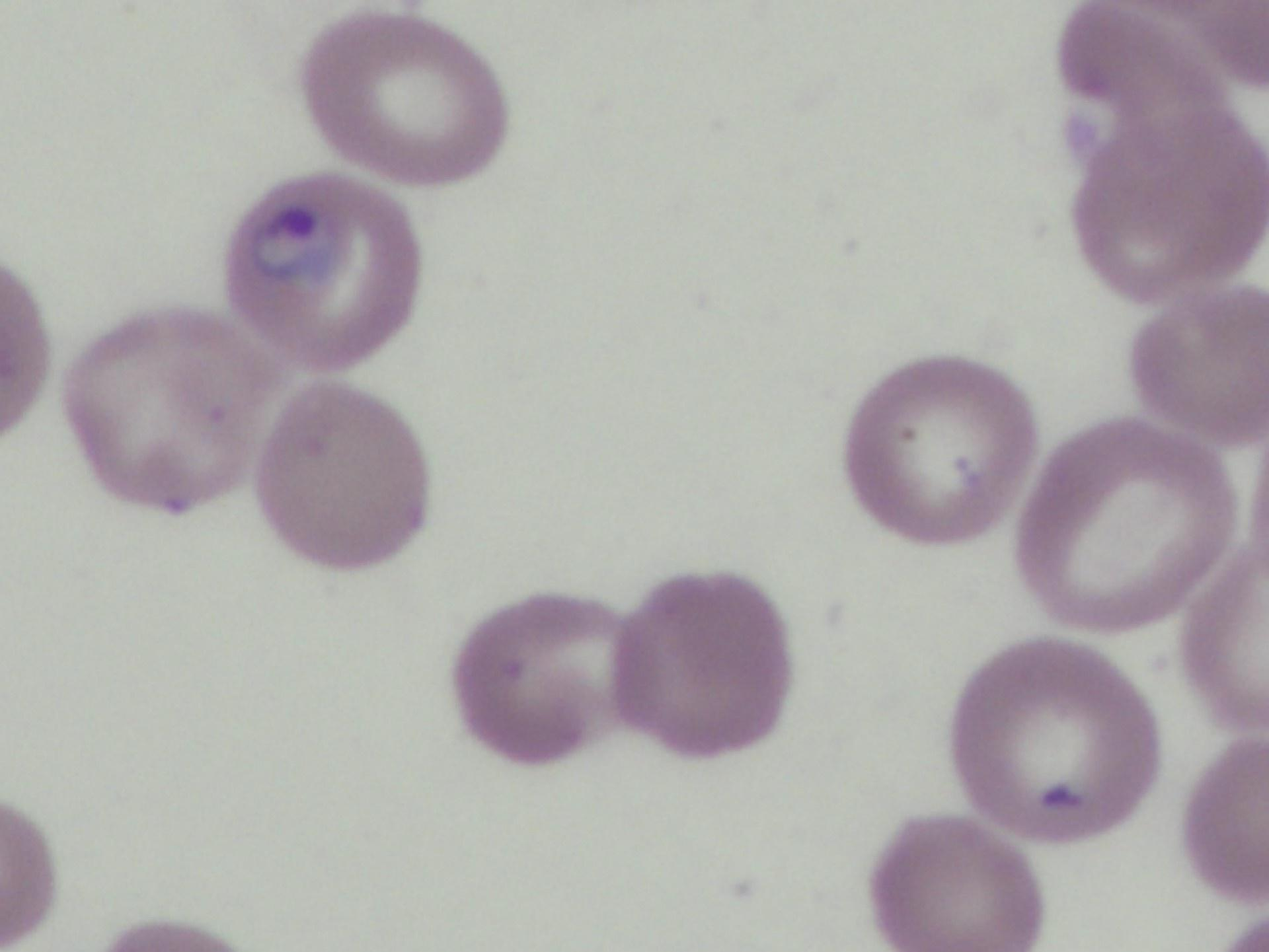Infected: (847, 587, 1048, 779)
Uninfected: (32, 320, 254, 529), (106, 107, 316, 309), (993, 442, 1198, 638), (759, 765, 966, 937), (1, 657, 187, 842), (233, 410, 421, 592), (841, 384, 1017, 568), (476, 197, 652, 373), (647, 190, 816, 352), (229, 0, 398, 134), (0, 509, 136, 664)
